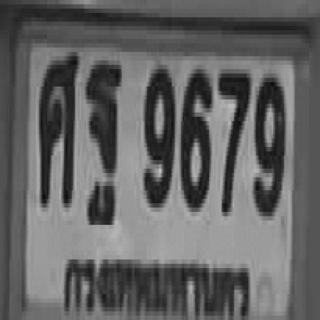A16: (84, 58, 120, 201)
A38: (38, 48, 76, 203)
N06: (179, 65, 211, 208)
N07: (217, 65, 248, 212)
N09: (251, 74, 284, 212), (142, 65, 173, 203)
